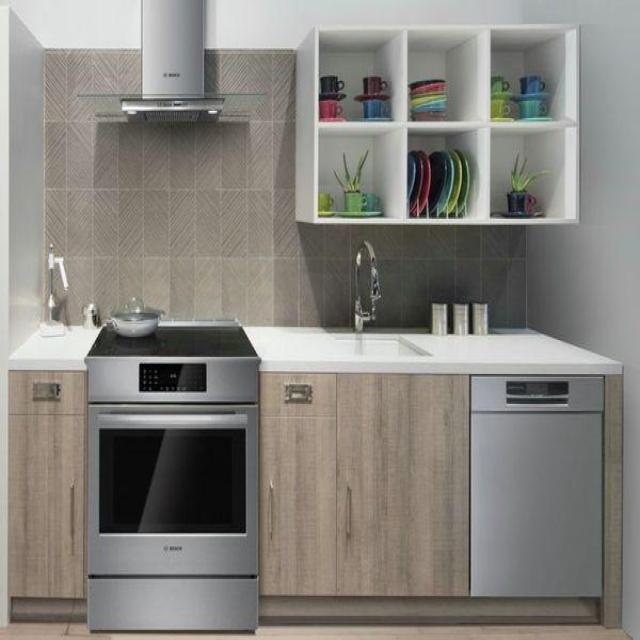dishwasher: (423, 291, 631, 640)
